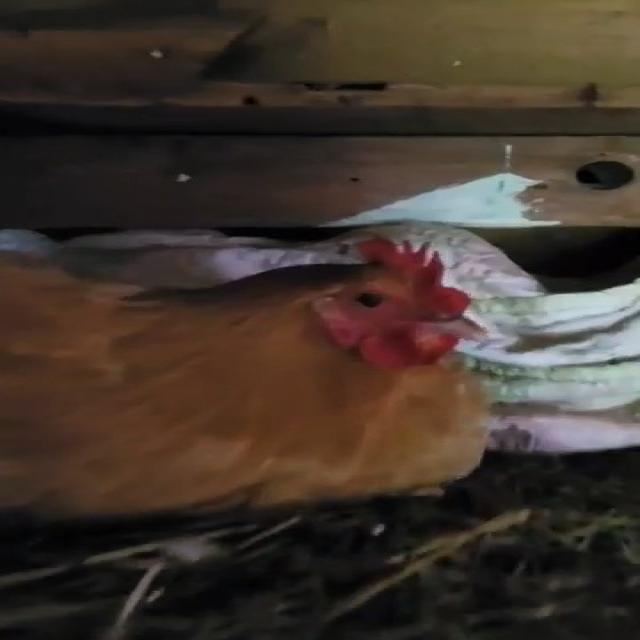sleeping chickens: (0, 230, 476, 536)
